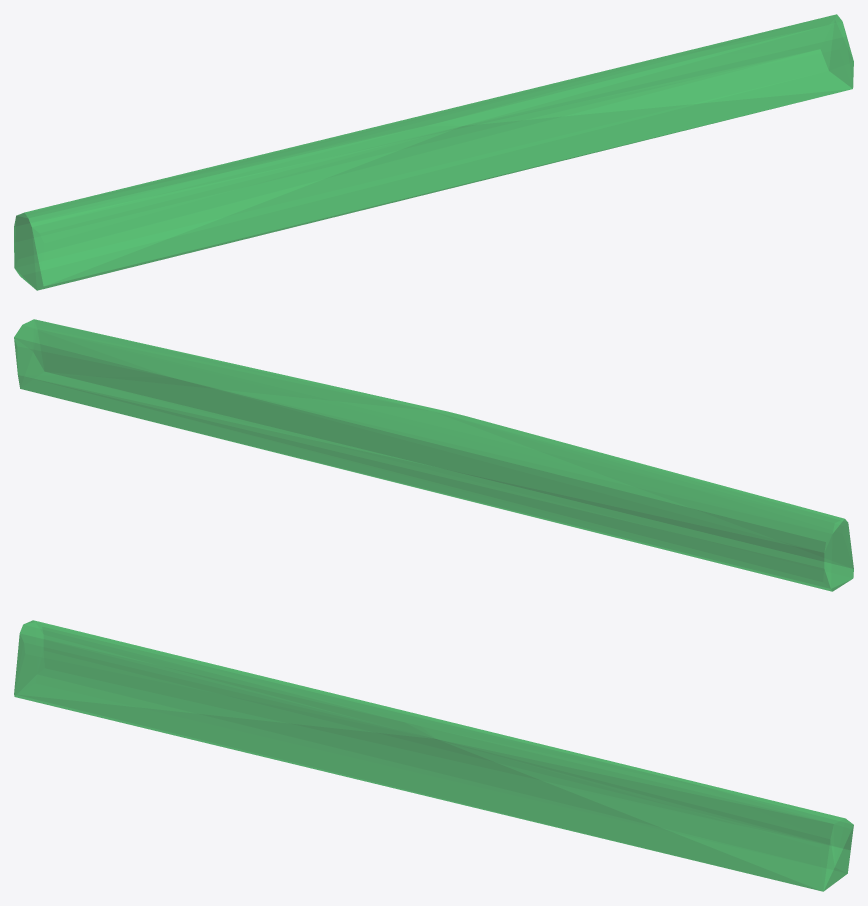
The picture shows the model from 3 angles, top to bottom: view 1: azimuth 30°, elevation 25°; view 2: azimuth 150°, elevation 25°; view 3: azimuth 330°, elevation 25°; orthographic projection.
Parts seen in each view (by area): view 1: Shape_IndexedFaceSet.001_Shape_IndexedFaceSet.17841; view 2: Shape_IndexedFaceSet.001_Shape_IndexedFaceSet.17841; view 3: Shape_IndexedFaceSet.001_Shape_IndexedFaceSet.17841.
Part boxes in pixels (left/top/right/bottom): Shape_IndexedFaceSet.001_Shape_IndexedFaceSet.17841: left=14, top=14, right=853, bottom=290; Shape_IndexedFaceSet.001_Shape_IndexedFaceSet.17841: left=14, top=319, right=853, bottom=591; Shape_IndexedFaceSet.001_Shape_IndexedFaceSet.17841: left=14, top=620, right=853, bottom=891.
Bounding box in the file's own units: 1.22 × 0.0985 × 0.0767.
